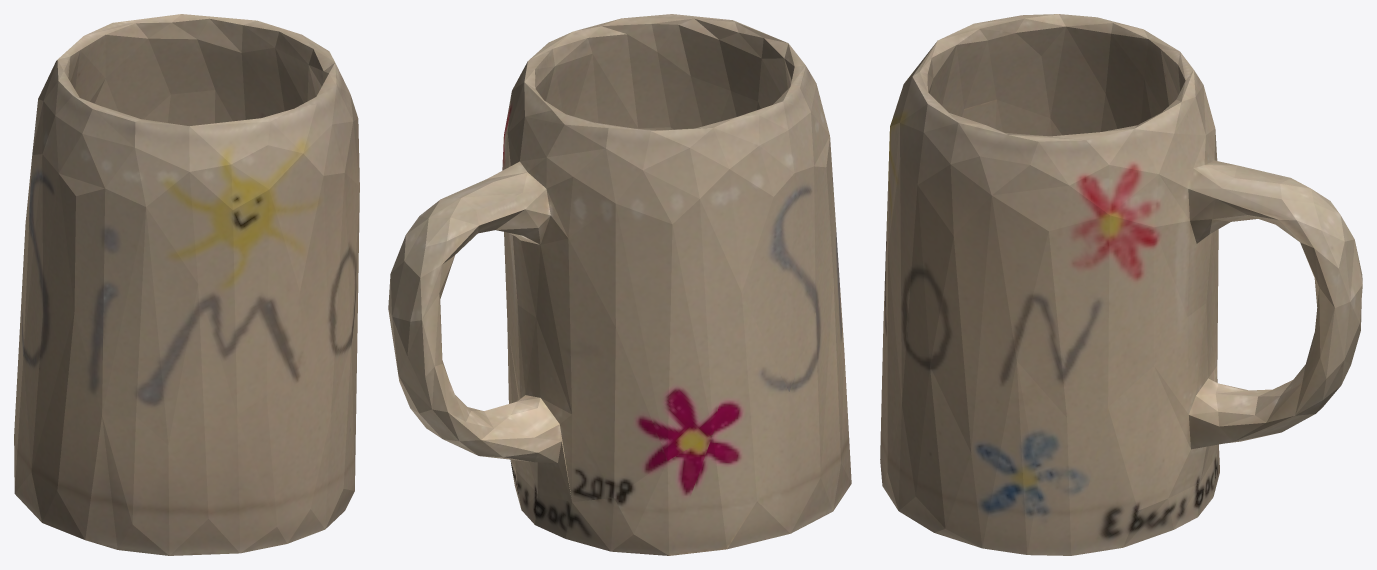
Rendered from DB201AE9-7863-BF40-BBCA-E984C8C61FC7_512.glb.
3 renders of one model, left to right at view 1: azimuth 30°, elevation 25°; view 2: azimuth 150°, elevation 25°; view 3: azimuth 270°, elevation 25°, orthographic.
Parts seen in each view (by area): view 1: Krug Simon_0.8k_512; view 2: Krug Simon_0.8k_512; view 3: Krug Simon_0.8k_512.
Part boxes in pixels (bbox=[...]): Krug Simon_0.8k_512: bbox=[14, 14, 359, 555]; Krug Simon_0.8k_512: bbox=[388, 14, 851, 555]; Krug Simon_0.8k_512: bbox=[880, 14, 1362, 555].
Size of the model in its own units: 0.1021 by 0.1357 by 0.1411.
1 material, 1 textured.
